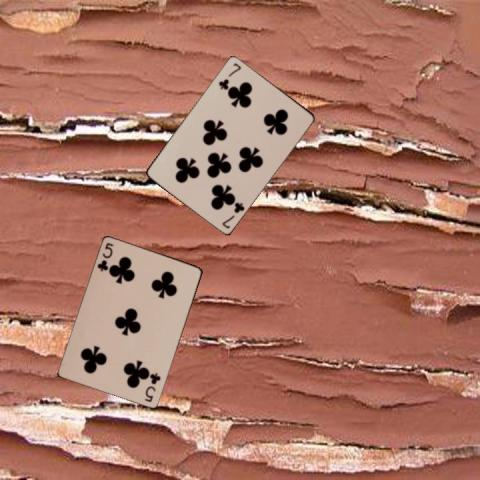5c: (141, 370, 162, 404), (94, 240, 114, 273)
7c: (215, 60, 242, 91), (219, 199, 246, 229)
